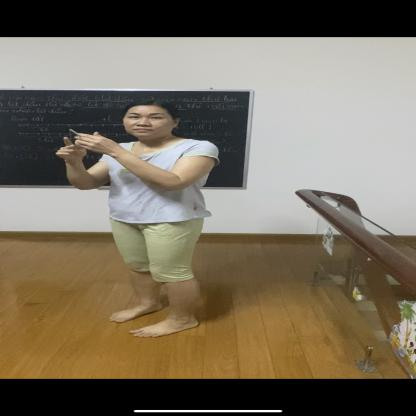cigarette: (67, 128, 81, 137)
person: (58, 98, 220, 336)
